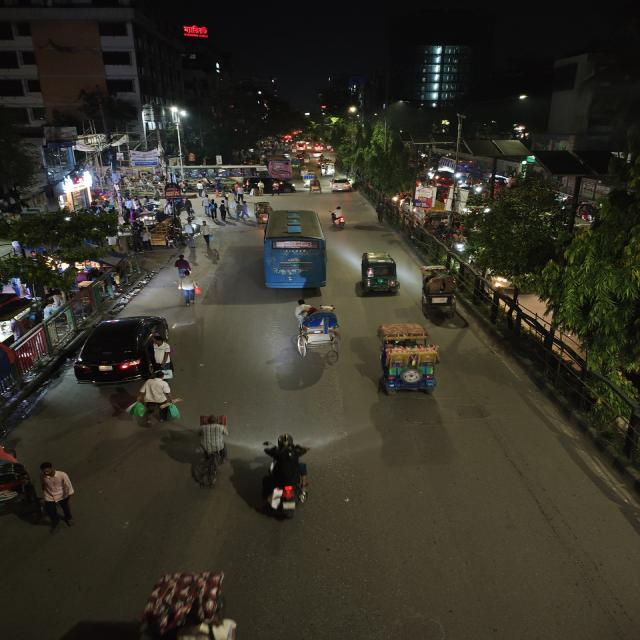bicycle: (188, 409, 233, 489), (173, 273, 204, 307)
bus: (256, 206, 332, 297), (182, 165, 266, 181), (266, 155, 294, 179)
car: (72, 312, 176, 386), (328, 176, 354, 194)
cng: (356, 250, 403, 299)
human_hauler: (317, 161, 337, 177)
motorcycle: (174, 273, 204, 307), (328, 204, 349, 230)
pedestrian: (254, 429, 323, 525), (36, 459, 81, 533), (136, 372, 173, 425), (173, 273, 203, 307), (172, 255, 193, 279), (197, 220, 215, 246), (233, 196, 250, 220), (216, 195, 231, 221), (202, 195, 216, 217), (256, 181, 266, 197), (273, 180, 280, 196)
rickshaw: (370, 321, 450, 399), (288, 297, 346, 362), (0, 428, 36, 526), (415, 264, 463, 317), (253, 200, 273, 226), (308, 178, 324, 194), (300, 167, 316, 181)
